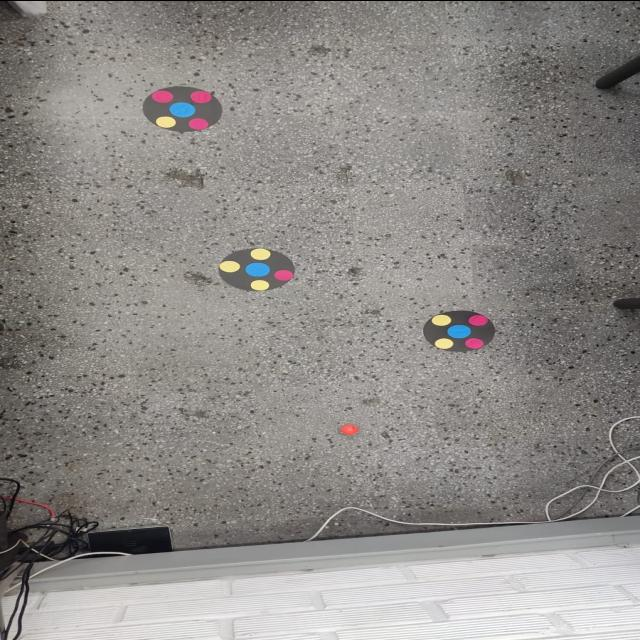0: (142, 85, 224, 131)
1: (422, 309, 494, 351)
2: (214, 246, 300, 292)
Ball: (336, 422, 364, 436)
